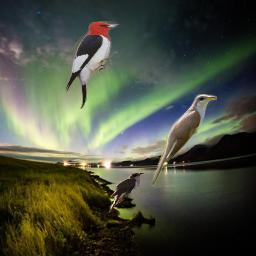Cuckoo: (149, 94, 217, 188), (109, 172, 144, 214)
Woodpecker: (65, 21, 119, 109)
